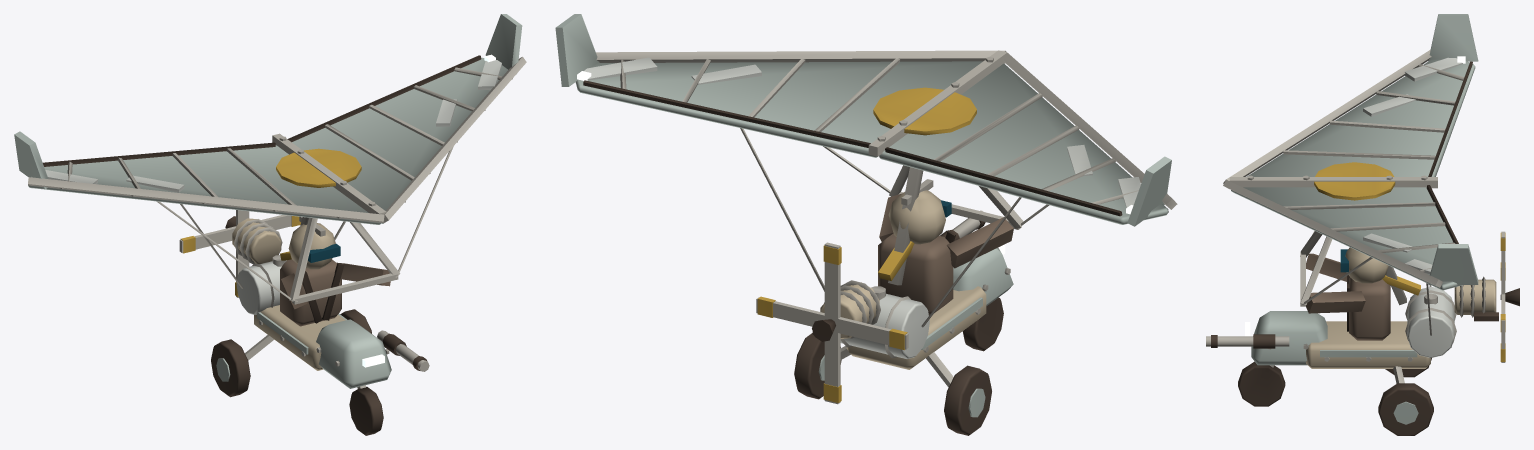
Rendered from glider.glb.
3 views of the same model, side by side, from view 1: azimuth 30°, elevation 25°; view 2: azimuth 150°, elevation 25°; view 3: azimuth 270°, elevation 25° (orthographic). The views are drawn at different scales.
Parts seen in each view (by area): view 1: Wing, Wing_spars, Nose_fairing, Wheels, Wing_battens, Winglets, Sun_disc, Wing_hem, Pilot, Seat_pod, Wing_stripes, Water_tank (+11 smaller); view 2: Wing, Wing_spars, Wheels, Prop_blades, Winglets, Pilot, Wing_battens, Sun_disc, Wing_hem, Wing_stripes, Seat_pod, Water_tank (+12 smaller); view 3: Wing, Wing_spars, Wheels, Winglets, Seat_pod, Wing_battens, Nose_fairing, Water_tank, Sun_disc, Pilot, Wing_stripes, Pilot_arms (+15 smaller).
Boxes of the visible parts, left/top/right/bottom form: Wing: left=28, top=57, right=507, bottom=224; Wing_spars: left=28, top=56, right=526, bottom=222; Nose_fairing: left=316, top=319, right=391, bottom=388; Wheels: left=211, top=309, right=383, bottom=435; Wing_battens: left=67, top=67, right=502, bottom=205; Winglets: left=14, top=14, right=522, bottom=189; Sun_disc: left=276, top=148, right=361, bottom=187; Wing_hem: left=43, top=55, right=481, bottom=166; Pilot: left=280, top=259, right=341, bottom=326; Seat_pod: left=254, top=305, right=345, bottom=370; Wing_stripes: left=45, top=60, right=501, bottom=192; Water_tank: left=236, top=260, right=286, bottom=314; Wing: left=575, top=61, right=1168, bottom=224; Wing_spars: left=596, top=50, right=1177, bottom=209; Wheels: left=794, top=297, right=1003, bottom=435; Prop_blades: left=756, top=242, right=908, bottom=404; Winglets: left=555, top=14, right=1171, bottom=226; Pilot: left=878, top=233, right=953, bottom=315; Wing_battens: left=619, top=58, right=1138, bottom=204; Sun_disc: left=873, top=87, right=976, bottom=135; Wing_hem: left=583, top=80, right=1122, bottom=216; Wing_stripes: left=584, top=57, right=1140, bottom=207; Seat_pod: left=846, top=286, right=986, bottom=369; Water_tank: left=840, top=293, right=929, bottom=358; Wing: left=1231, top=59, right=1475, bottom=290; Wing_spars: left=1223, top=49, right=1442, bottom=287; Wheels: left=1238, top=358, right=1433, bottom=435; Winglets: left=1428, top=14, right=1478, bottom=284; Seat_pod: left=1306, top=321, right=1430, bottom=368; Wing_battens: left=1283, top=64, right=1464, bottom=272; Nose_fairing: left=1251, top=311, right=1327, bottom=365; Water_tank: left=1407, top=286, right=1454, bottom=357; Sun_disc: left=1314, top=162, right=1395, bottom=200; Pilot: left=1349, top=277, right=1390, bottom=340; Wing_stripes: left=1363, top=57, right=1462, bottom=274; Pilot_arms: left=1306, top=253, right=1365, bottom=313.
Size of the model in its own units: 4.04 by 2.18 by 2.26.
